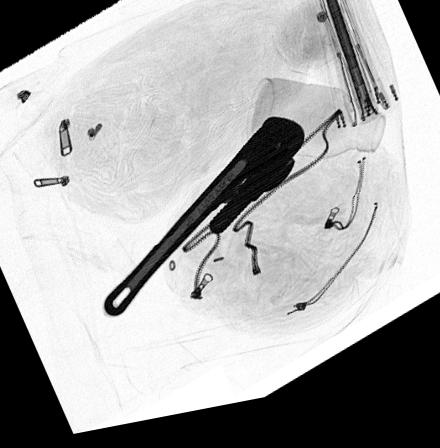Wrench: (102, 125, 304, 322)
